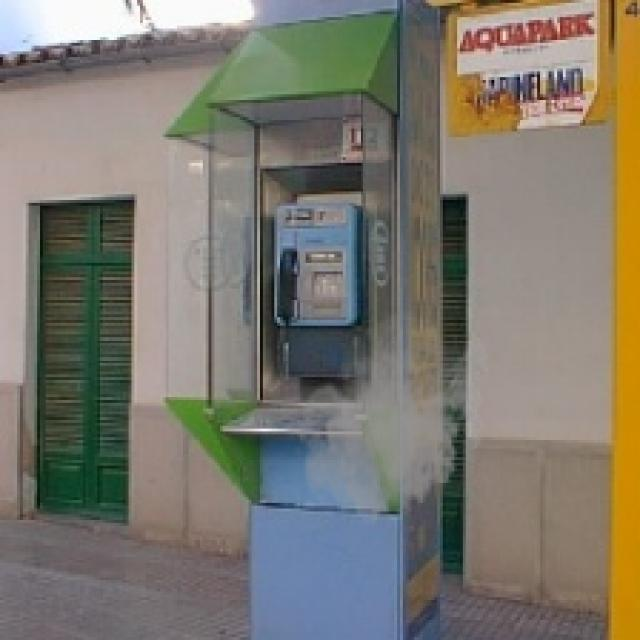Smoke: (282, 306, 494, 528)
